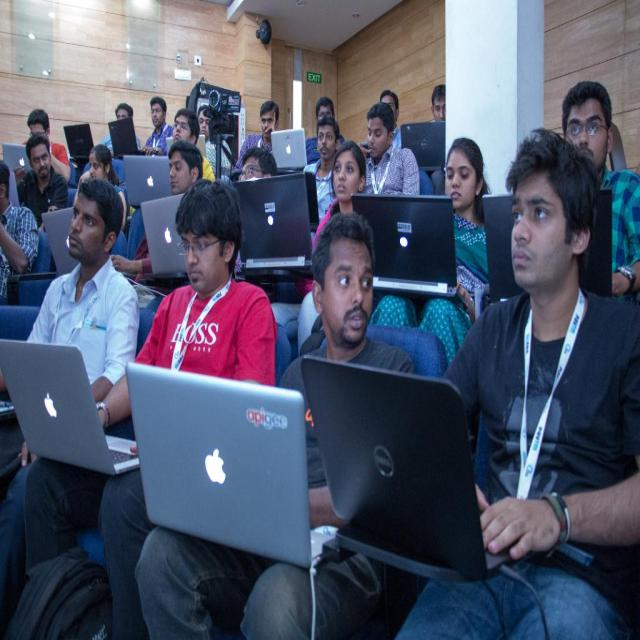Laptop: (118, 376, 311, 564), (0, 338, 140, 476), (482, 188, 611, 303), (350, 194, 460, 299), (231, 178, 315, 268), (139, 192, 188, 274), (40, 205, 80, 276), (122, 155, 172, 207), (278, 168, 319, 230), (402, 120, 445, 171), (271, 130, 315, 175), (108, 114, 148, 159), (63, 122, 95, 160), (1, 141, 32, 174), (166, 134, 208, 157)
